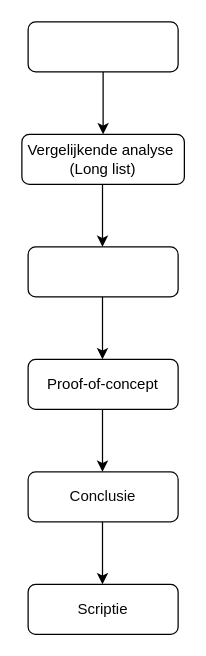
Some shapes in this 206 by 656 pixel diagram are drawn without their labels. Each missing label, with the centre of its shape:
Literatuurstudie: [102,46]
Short list: [102,271]
